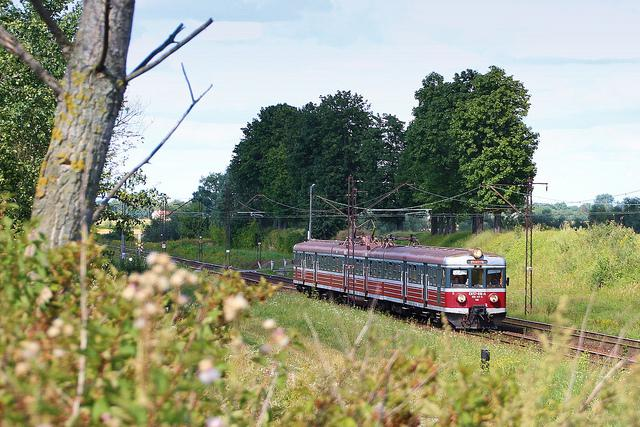Train: (293, 237, 510, 331)
